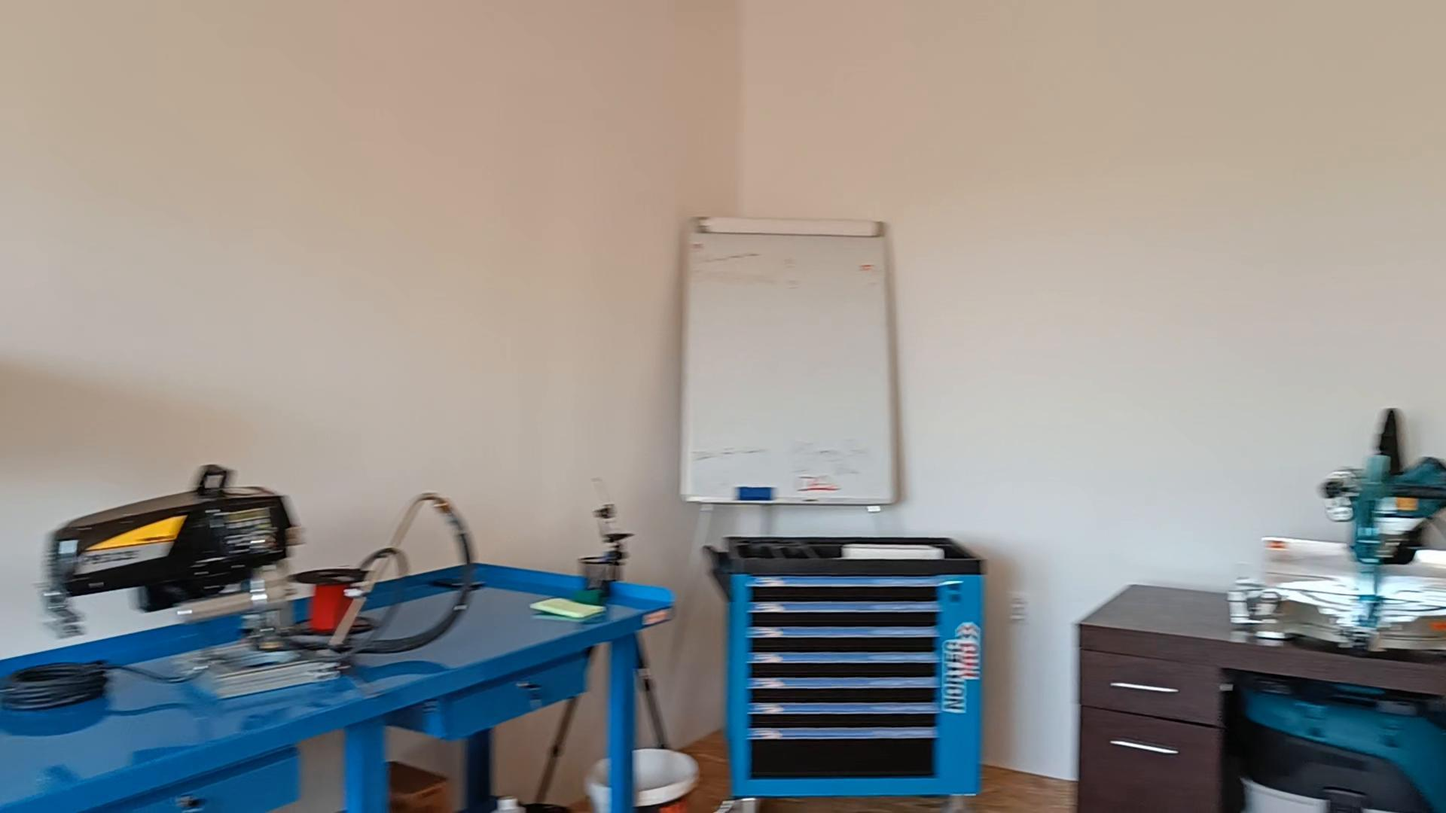floor: (756, 767, 1073, 812)
wall: (0, 0, 1445, 779)
